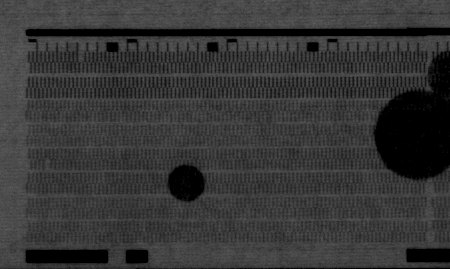Broken hole: (41, 157, 52, 171), (76, 50, 86, 63)
